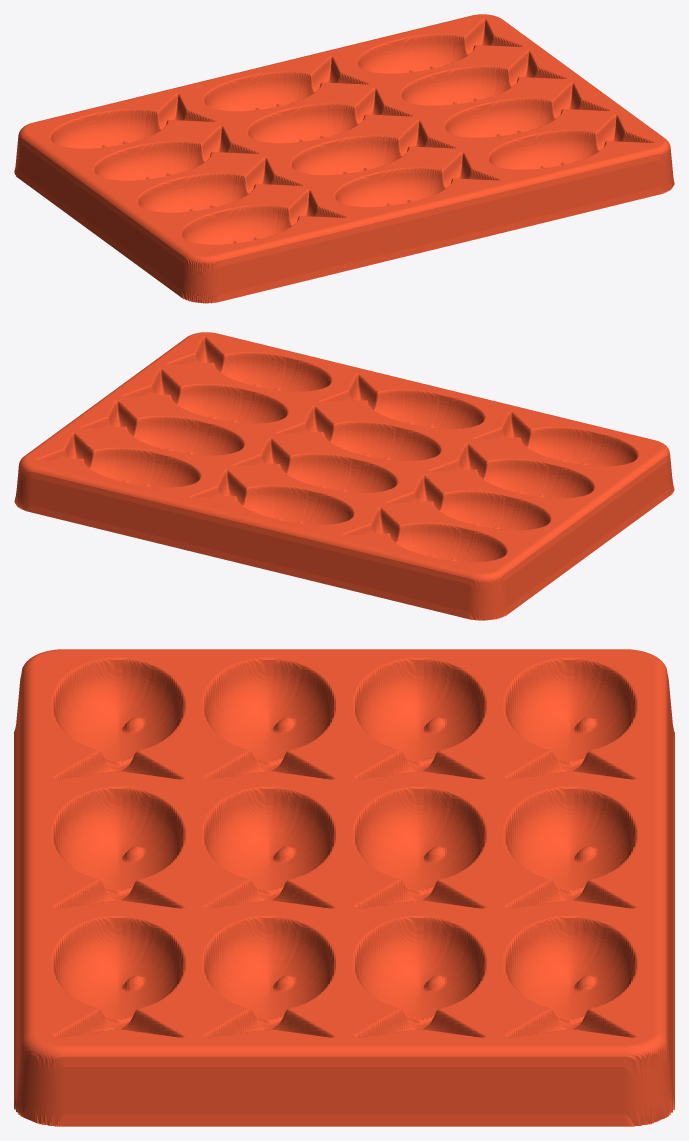
File: mold.glb
The picture shows the model from 3 angles, top to bottom: view 1: azimuth 30°, elevation 25°; view 2: azimuth 150°, elevation 25°; view 3: azimuth 270°, elevation 25°; orthographic projection. The views are drawn at different scales.
Visible parts, largest first — view 1: geometry_0; view 2: geometry_0; view 3: geometry_0.
Part boxes in pixels (x1,y1,x2,y2): geometry_0: [14, 14, 674, 303]; geometry_0: [14, 332, 674, 620]; geometry_0: [14, 649, 674, 1126].
Size of the model in its own units: 0.1753 by 0.0145 by 0.1189.
